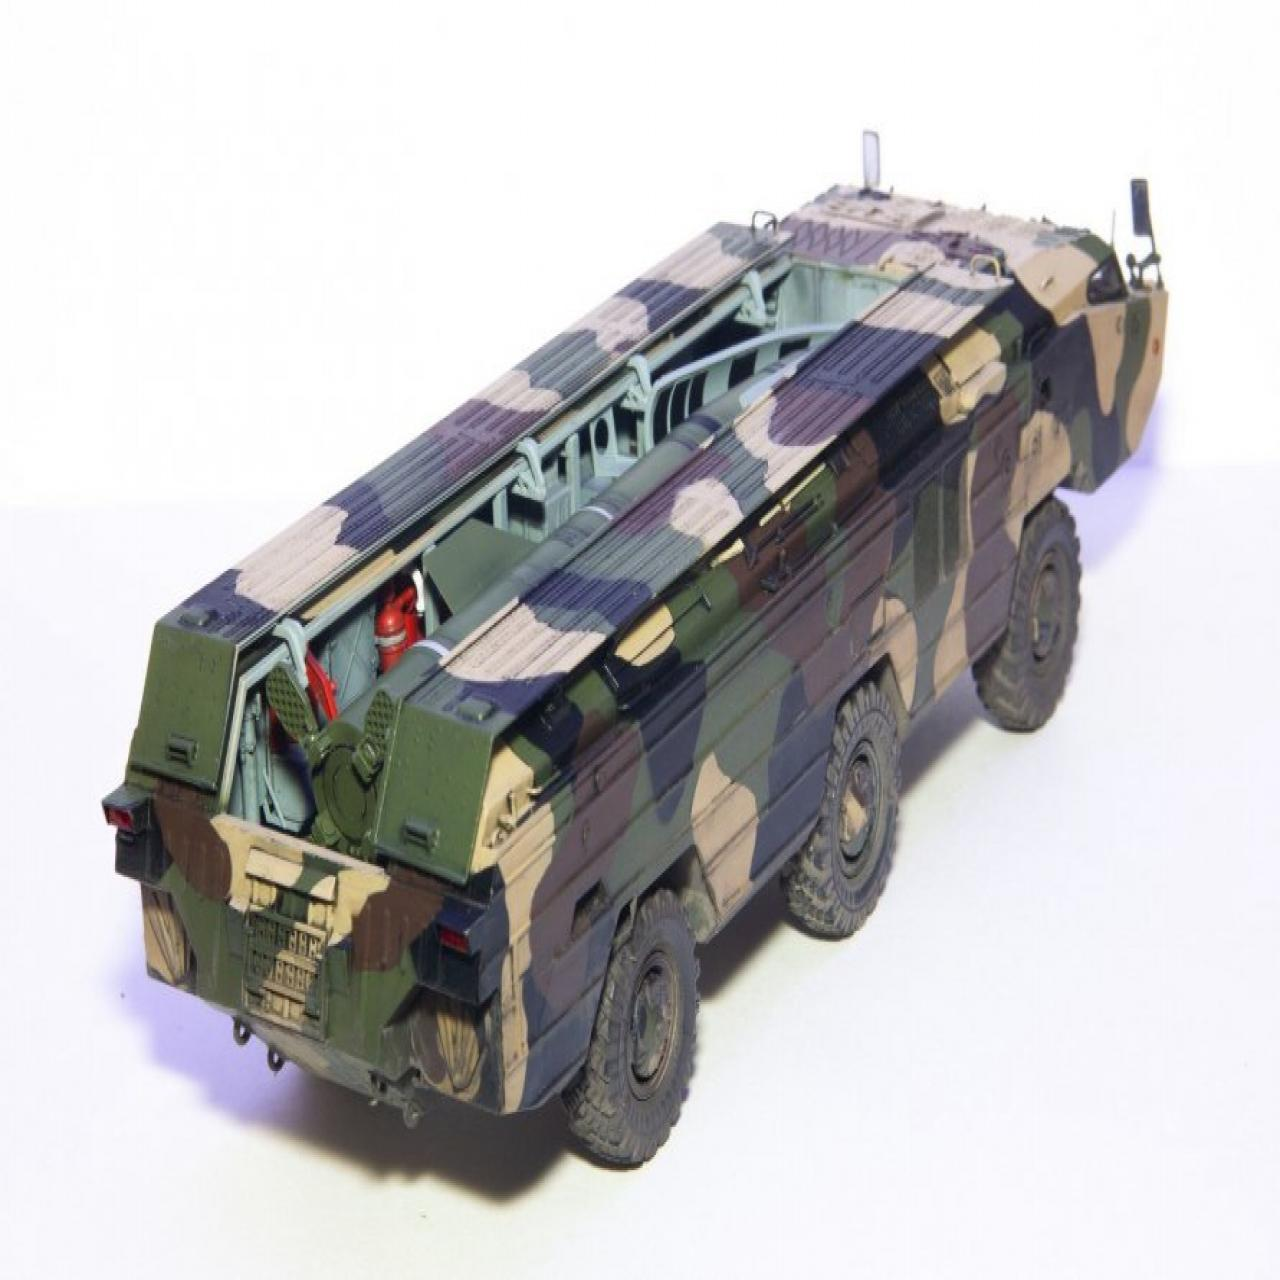MIL_Veh: (118, 179, 1175, 1171)
